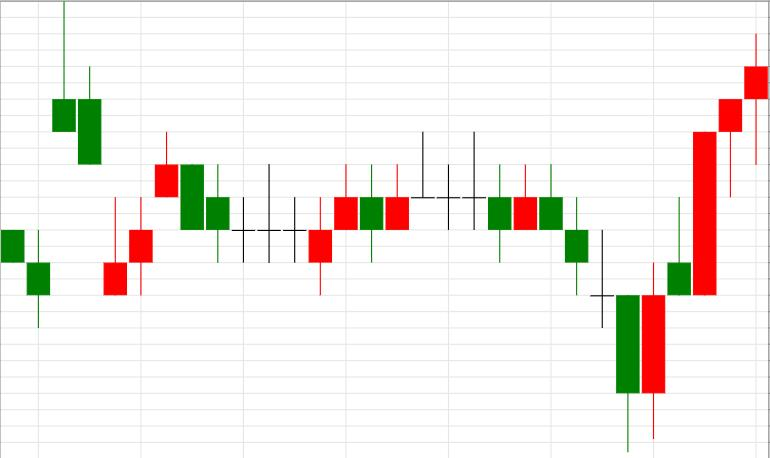hanging_man_fall: (641, 99, 742, 439)
